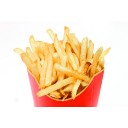frenchfries: (11, 29, 108, 98)
